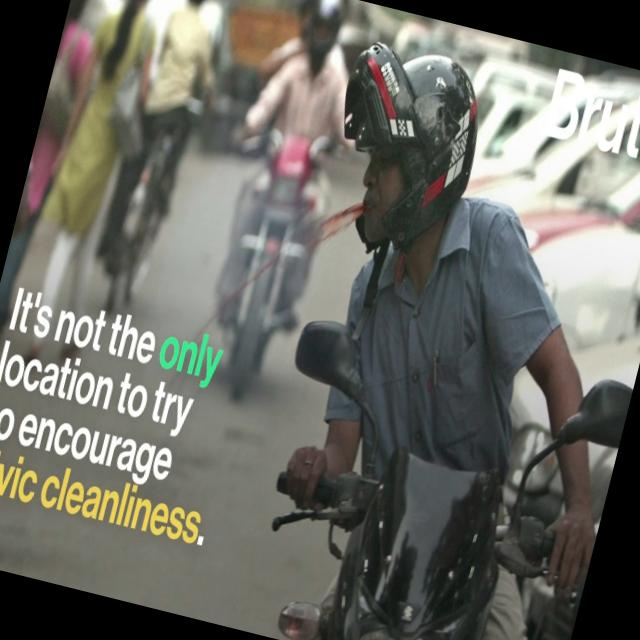spit: (190, 154, 393, 341)
